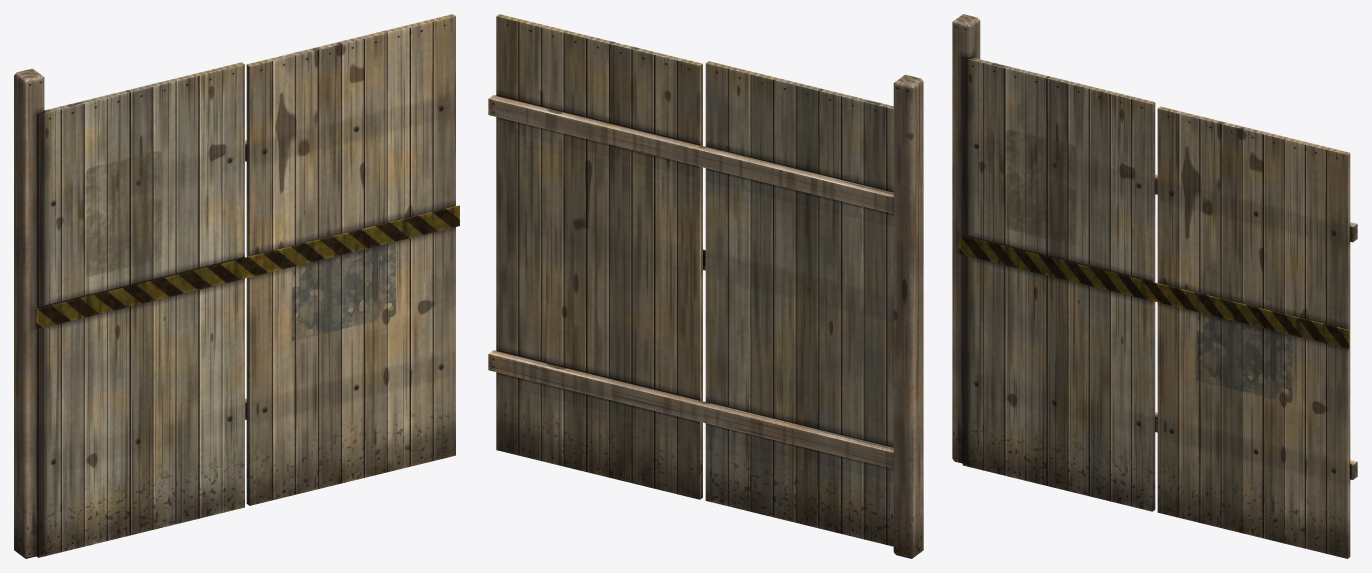
Rendered from tapume_painel.glb.
3 views of the same model, side by side, from view 1: azimuth 30°, elevation 25°; view 2: azimuth 150°, elevation 25°; view 3: azimuth 330°, elevation 25° (orthographic). The views are drawn at different scales.
Parts seen in each view (by area): view 1: tapume_painel; view 2: tapume_painel; view 3: tapume_painel.
Boxes of the visible parts, bbox=[...] form: tapume_painel: bbox=[14, 14, 459, 558]; tapume_painel: bbox=[488, 14, 923, 558]; tapume_painel: bbox=[952, 14, 1357, 558].
Bounding box in the file's own units: 2.46 × 2.6 × 0.133.
Materials: 1 (1 with a texture image).
